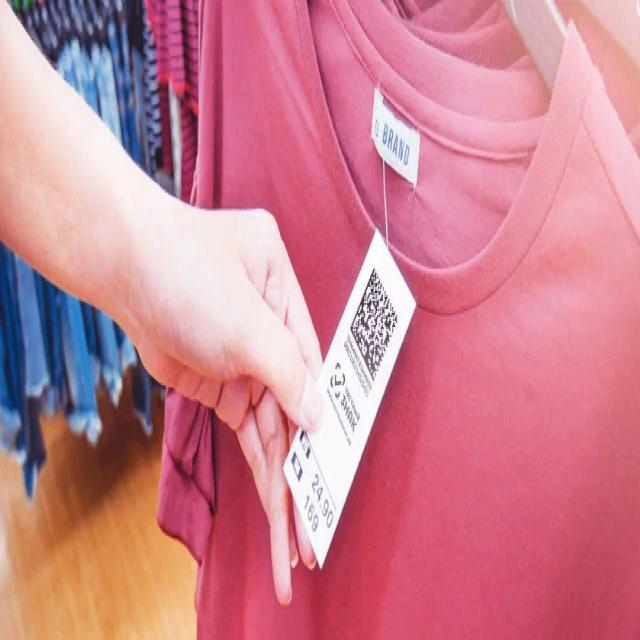datamatrix: (350, 264, 400, 386)
